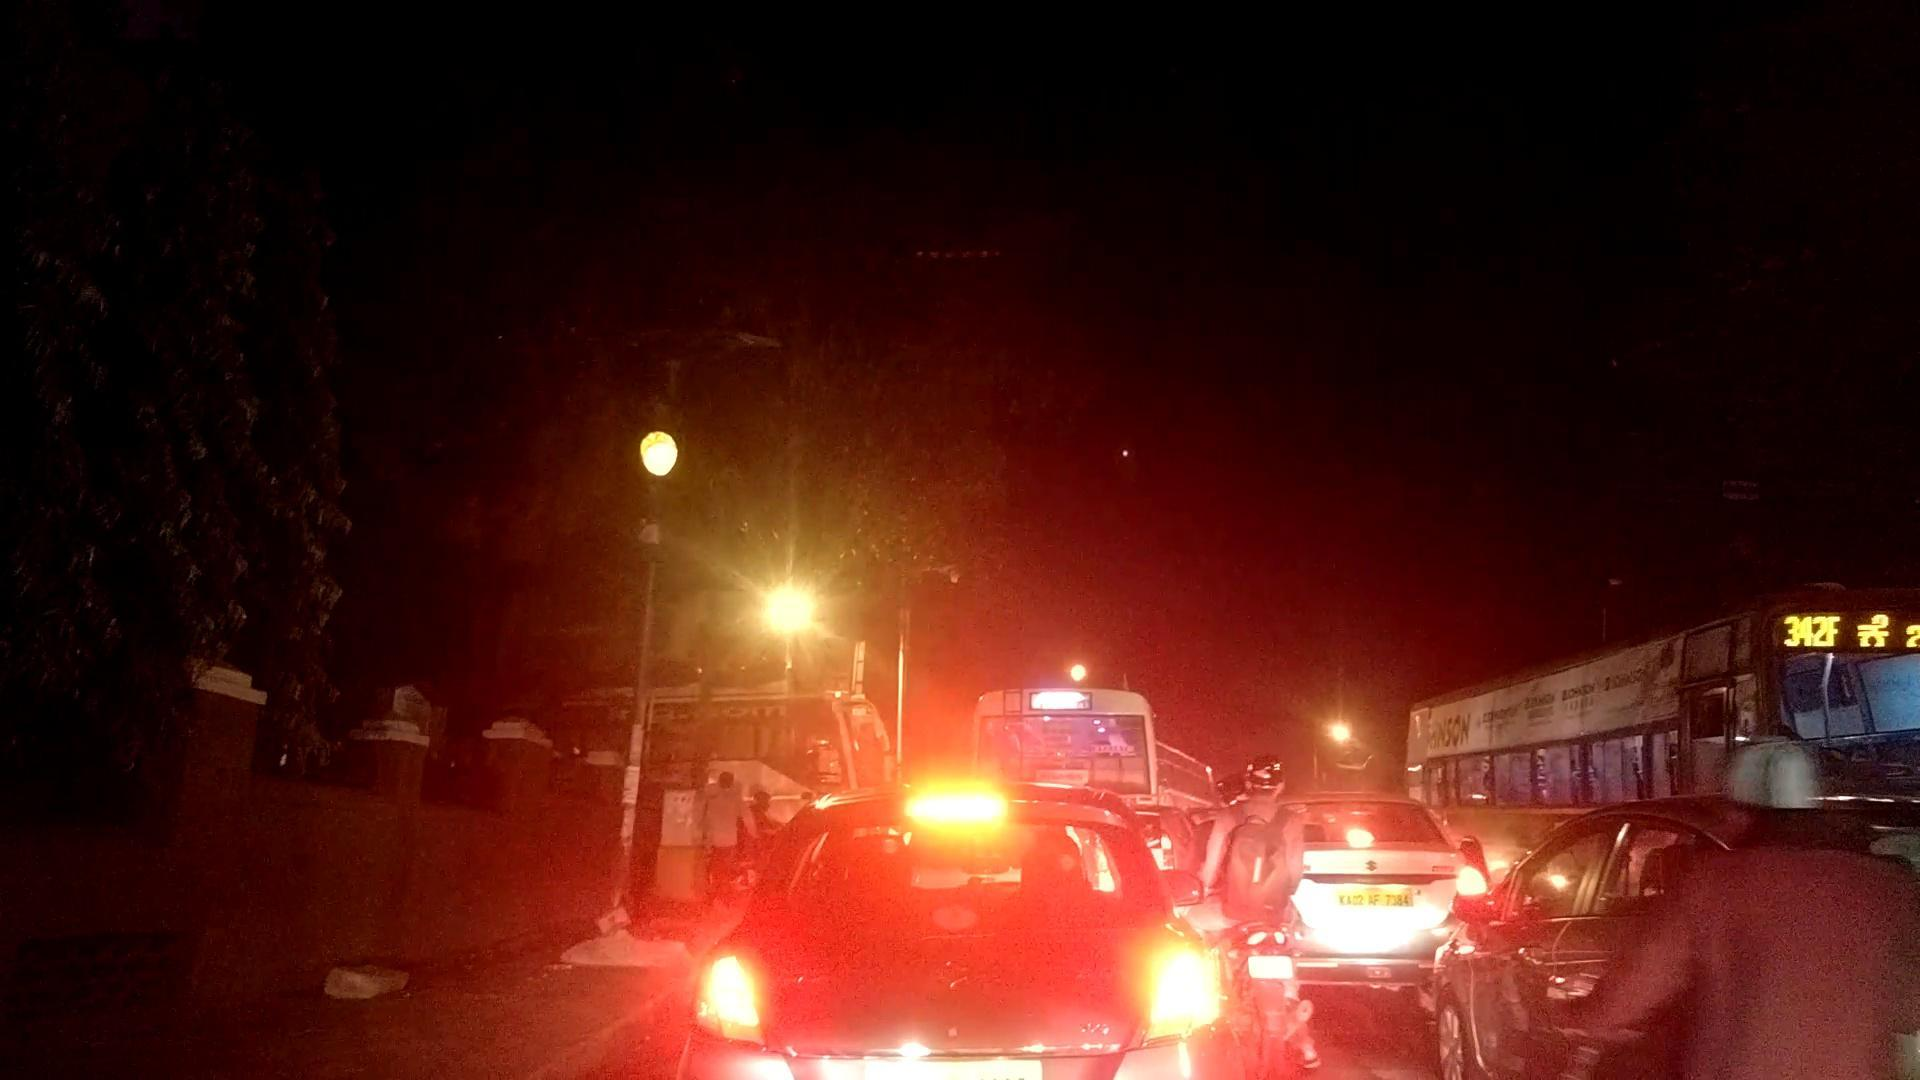on: (640, 322, 911, 811)
